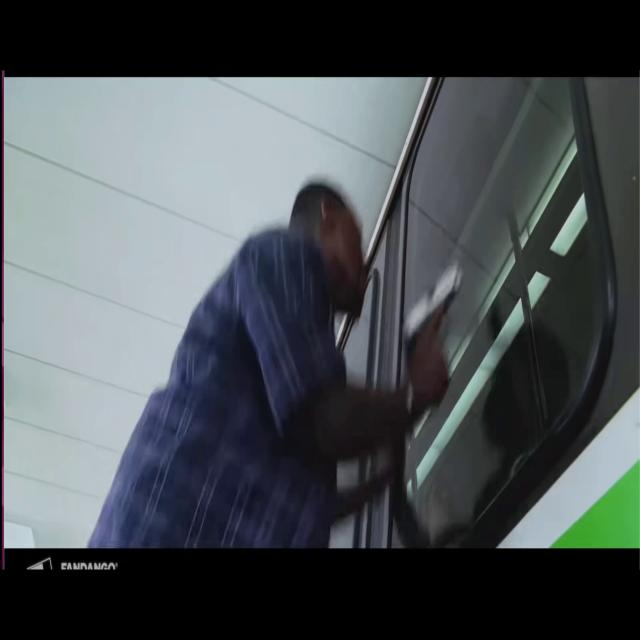weapons: (395, 258, 466, 417)
